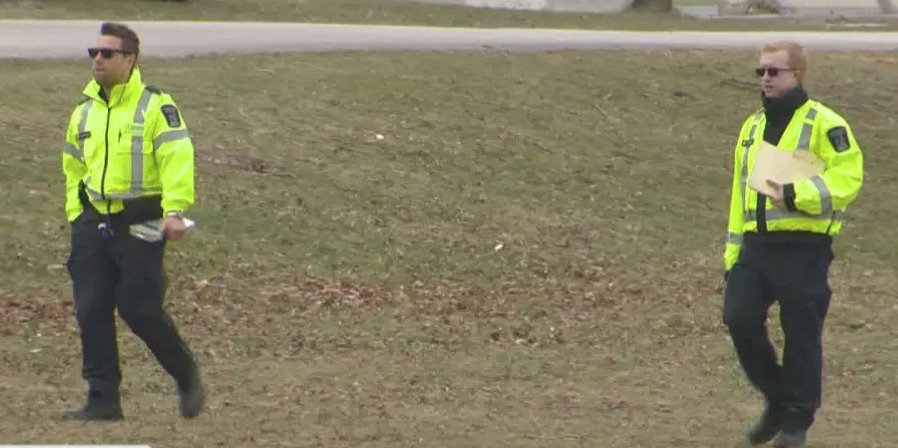Good: (60, 20, 867, 448)
